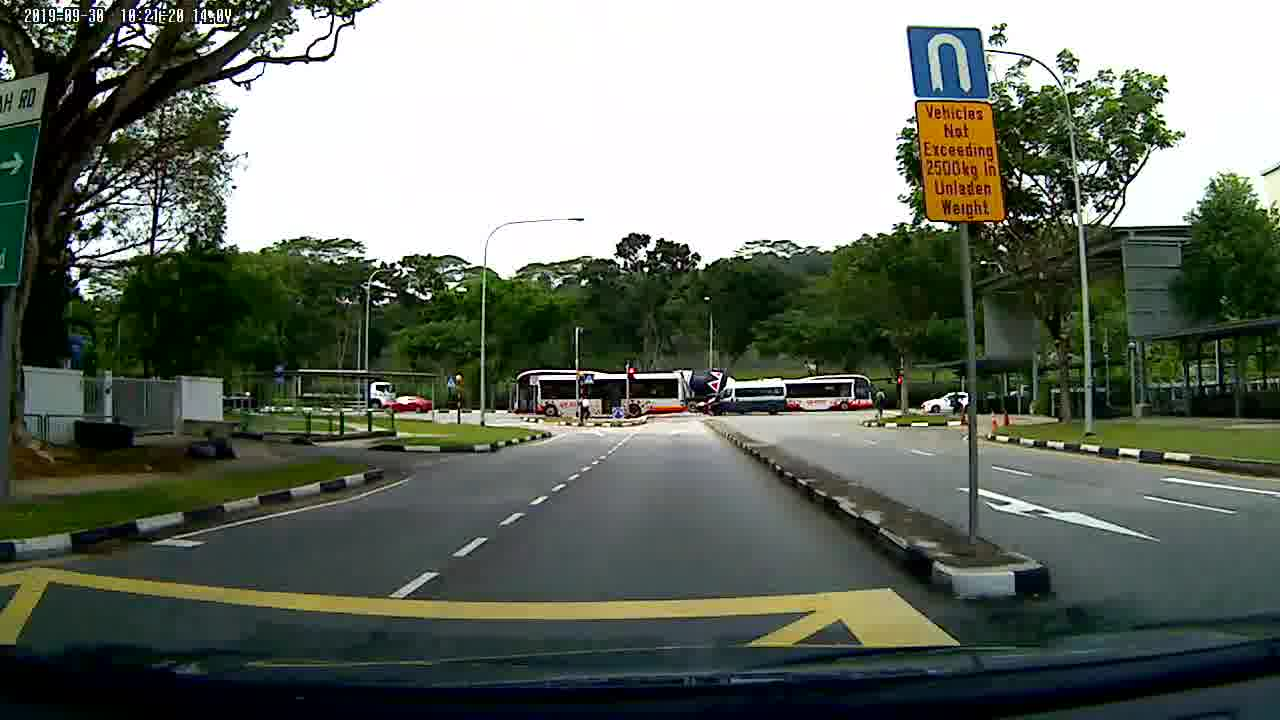bus: (508, 368, 687, 414), (785, 373, 877, 417)
car: (381, 396, 434, 412)
